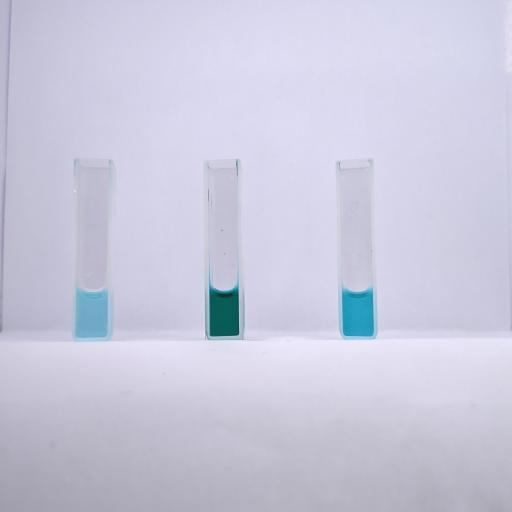cuvette: (334, 157, 379, 339), (71, 156, 115, 342), (202, 157, 246, 341)
liquid: (76, 288, 108, 338), (342, 289, 374, 335), (210, 288, 238, 336)
